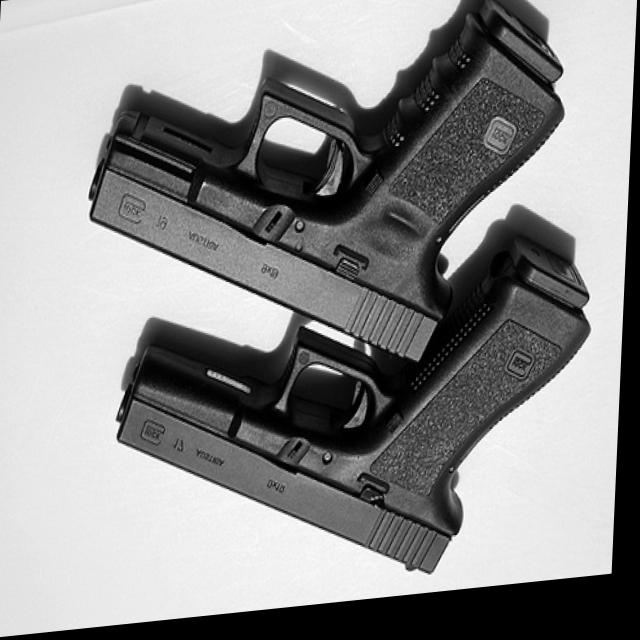handgun: (82, 0, 573, 403), (110, 243, 593, 613)
